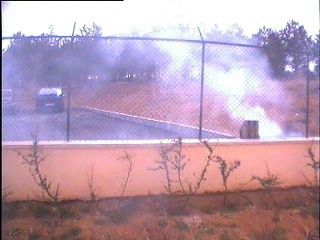smoke: (148, 22, 293, 138)
